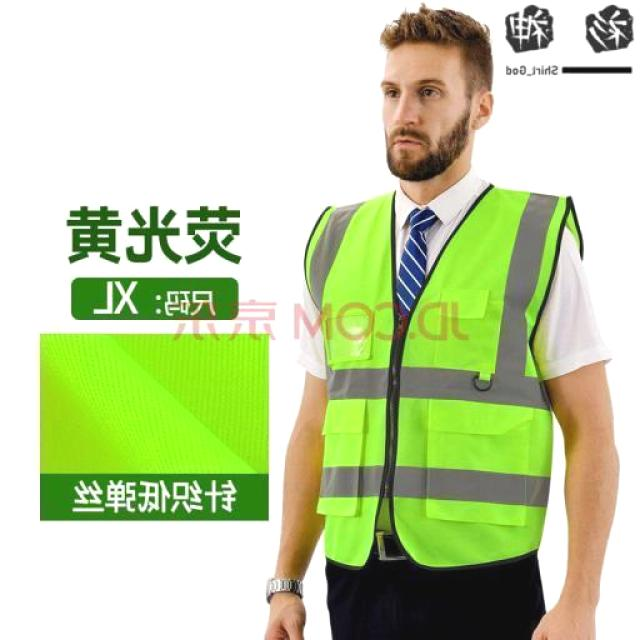face_nomask: (373, 71, 457, 160)
head_nohelmet: (374, 0, 500, 69)
person: (254, 0, 640, 640)
vest: (300, 181, 572, 571)
